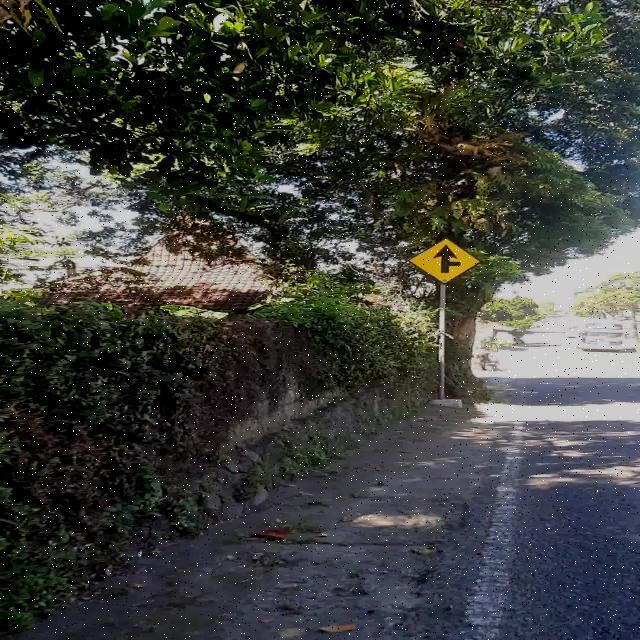Persimpangan 3 Prioritas Kanan: (408, 238, 480, 284)
